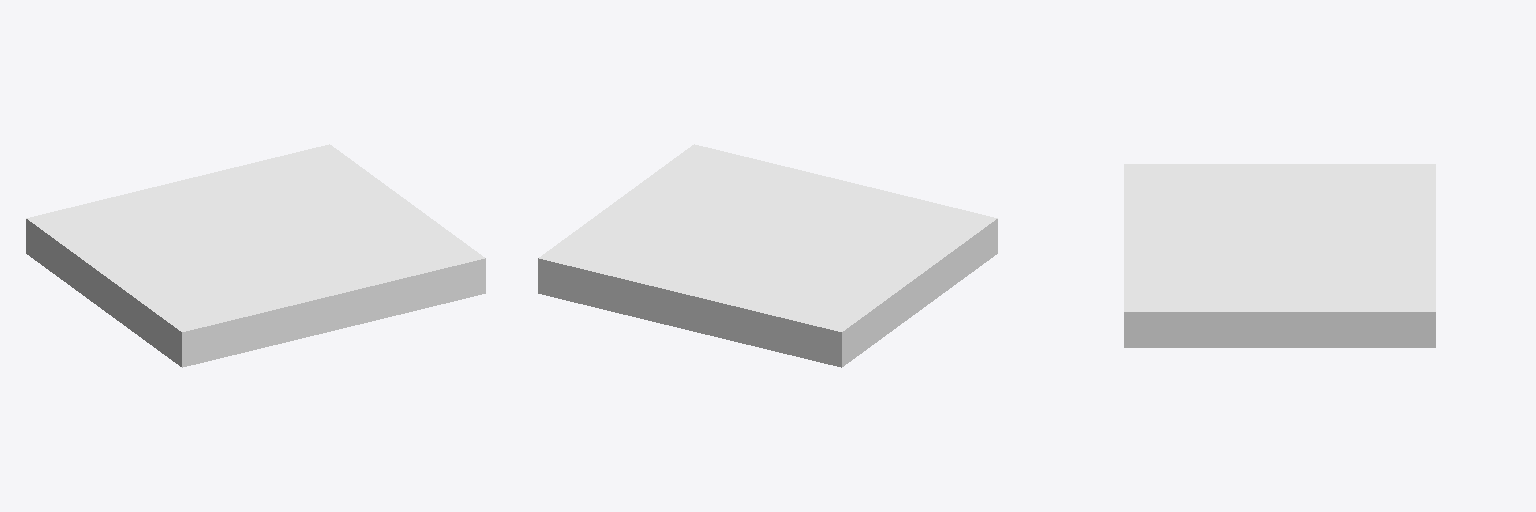
File: btn_4.obj
3 views of the same model, side by side, from view 1: azimuth 30°, elevation 25°; view 2: azimuth 150°, elevation 25°; view 3: azimuth 270°, elevation 25° (orthographic).
Visible parts, largest first — view 1: btn_4; view 2: btn_4; view 3: btn_4.
Boxes of the visible parts, <box> form: btn_4: <box>26,144,485,367</box>; btn_4: <box>538,144,997,367</box>; btn_4: <box>1124,164,1435,347</box>.
Bounding box in the file's own units: 9 × 1 × 8.